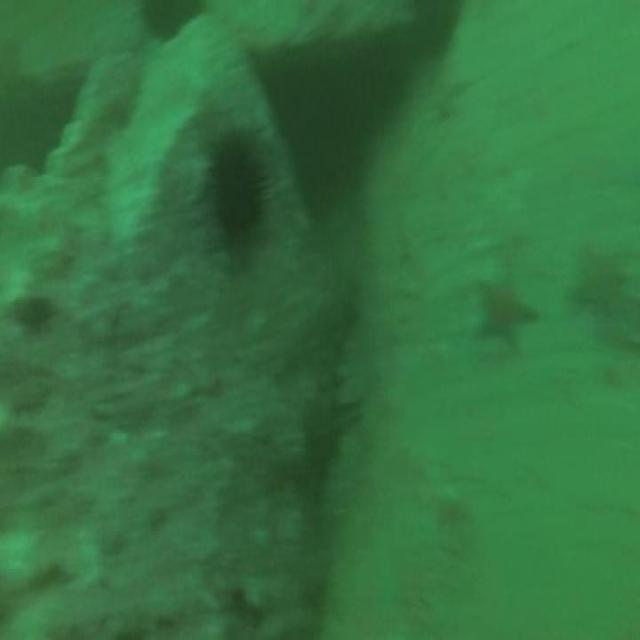echinus: (212, 141, 262, 232)
starfish: (477, 270, 536, 349)
